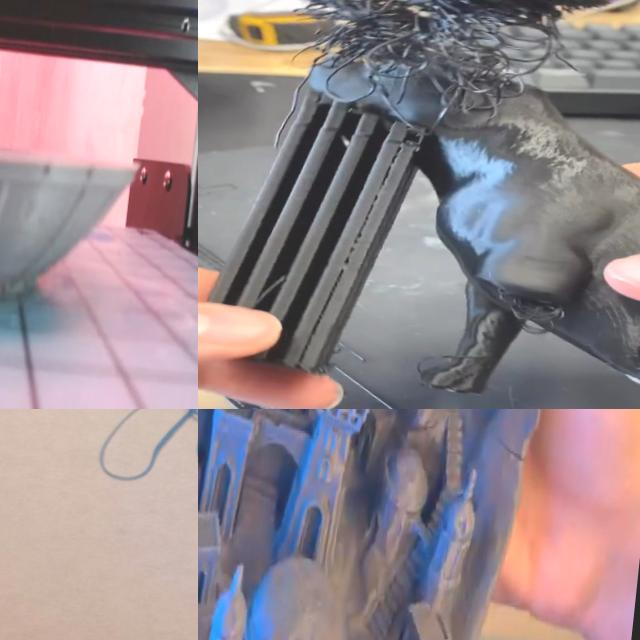spaghetti: (241, 0, 624, 155), (79, 409, 198, 523)
